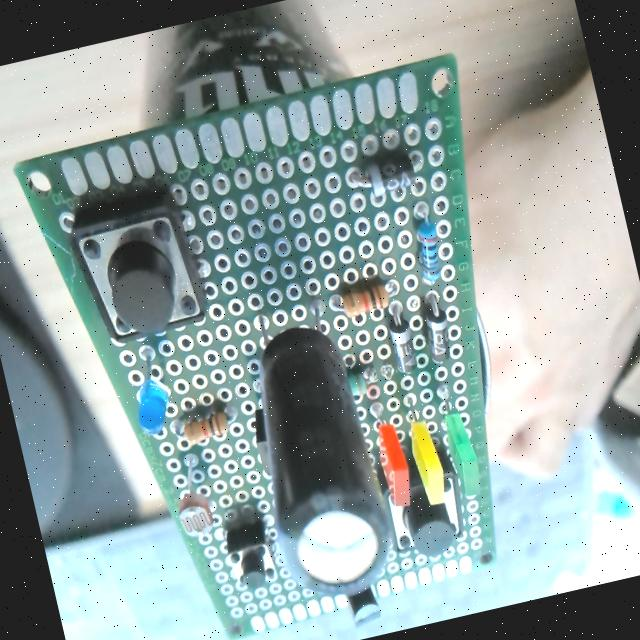Electrolytic capacitor: (232, 297, 400, 607)
cds: (165, 454, 218, 540)
diode: (349, 150, 418, 200), (416, 294, 456, 365), (386, 314, 419, 374)
led: (434, 384, 485, 499), (367, 397, 418, 510), (399, 394, 449, 506), (122, 344, 178, 438)
resistor: (407, 215, 448, 287), (338, 279, 391, 318), (182, 410, 230, 446)
switch: (64, 186, 213, 352), (378, 462, 470, 563), (222, 518, 280, 594)
